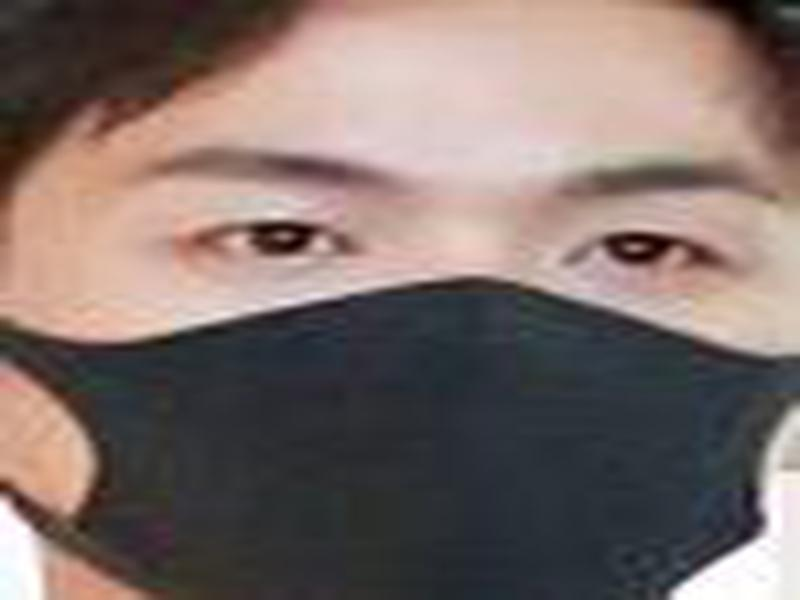with_mask: (1, 4, 796, 600)
